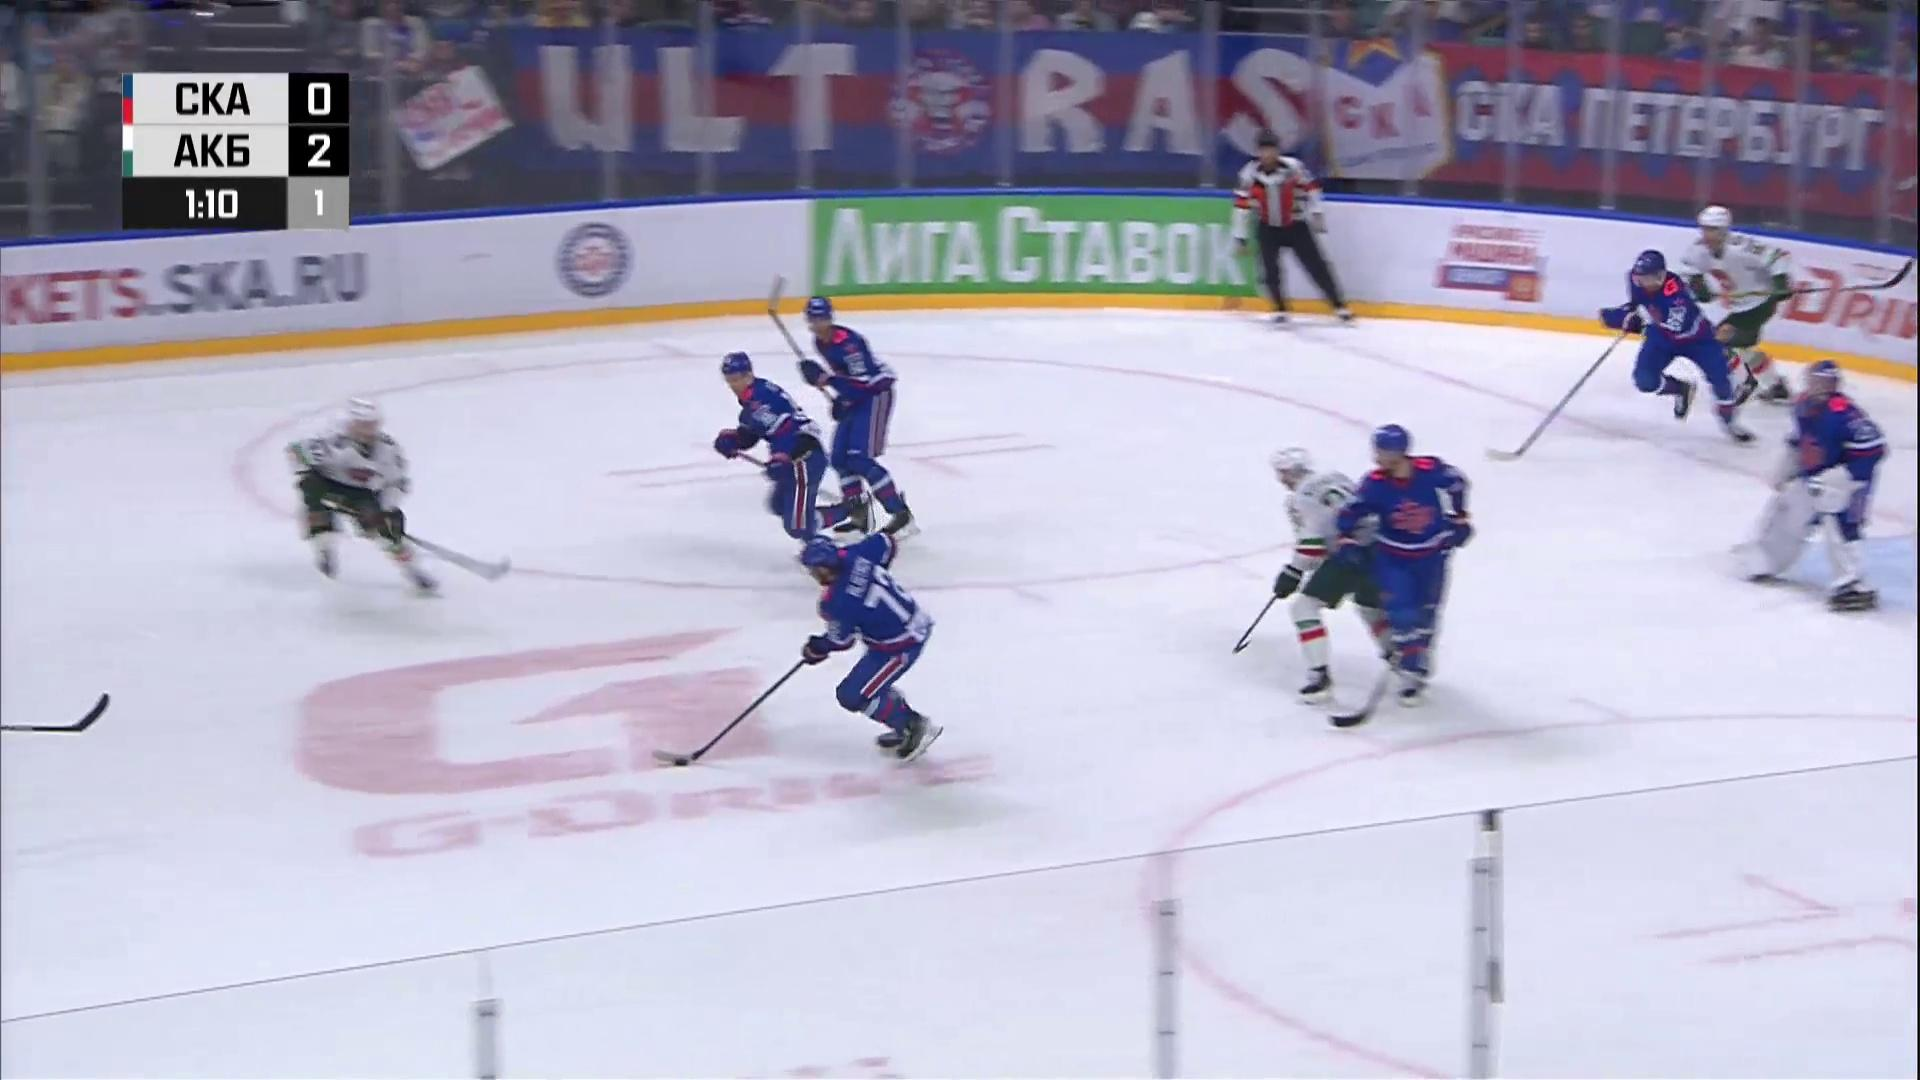ball: (674, 758, 688, 766)
